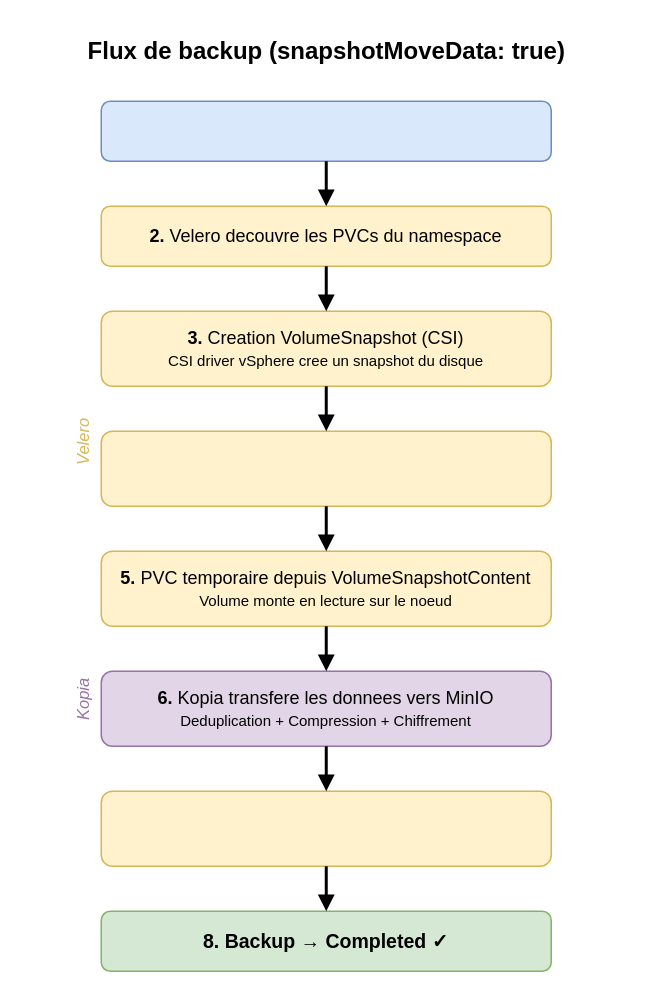
Image size: 651x998. Some labels were removed from this diagram. Each missing label, with the centre of its shape:
1. kubectl apply -f backup.yaml: (325,130)
4. Creation objet DataUpload node-agent recoit la tache: (325,468)
7. DataUpload → Completed VolumeSnapshot temporaire supprime: (325,828)
